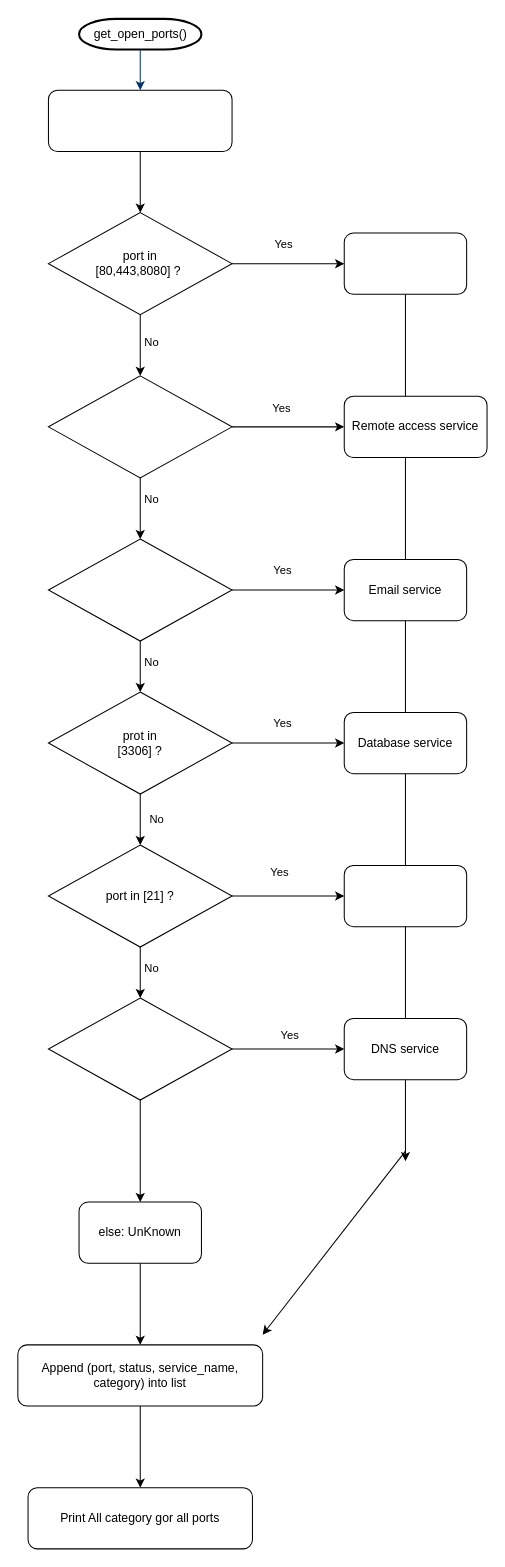
This 505x1567 diagram has some shape labels left out. Each missing label, with the centre of its shape:
File transfer service: the point at 405,895
Loop through each open port: the point at 139,120
port in [22,23,3389] ?: the point at 139,426
port in [25,110,143] ?: the point at 139,589
port in [53] ?: the point at 139,1048
Web services: the point at 405,263
